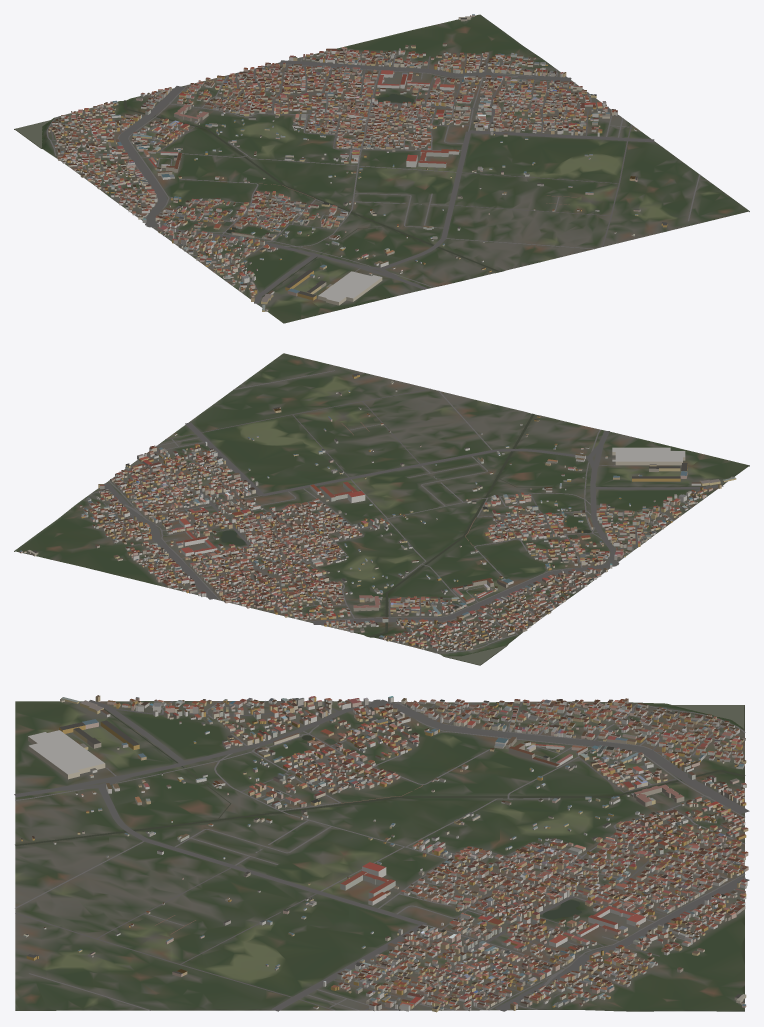
3 views of the same model, one above another, from view 1: azimuth 30°, elevation 25°; view 2: azimuth 150°, elevation 25°; view 3: azimuth 270°, elevation 25° (orthographic). The views are drawn at different scales.
Visible parts, largest first — view 1: ground, buildings, roads, water; view 2: ground, buildings, roads, water; view 3: ground, buildings, roads, water.
Part boxes in pixels (x1,y1,x2,y2): ground: (14, 14, 749, 323); buildings: (48, 14, 667, 311); roads: (46, 54, 700, 303); water: (15, 94, 500, 297); ground: (14, 353, 749, 665); buildings: (19, 373, 736, 651); roads: (91, 370, 723, 653); water: (220, 413, 705, 664); ground: (15, 701, 744, 1011); buildings: (20, 695, 748, 1012); roads: (14, 699, 749, 1011); water: (15, 705, 745, 919).
Size of the model in its own units: 1418 by 24.87 by 1414.
